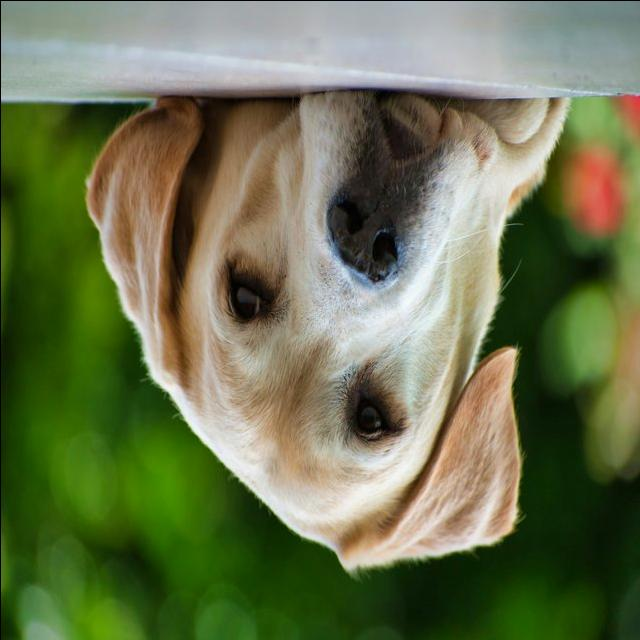retriever: (83, 89, 571, 578)
